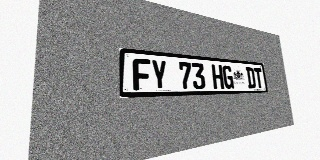3: (191, 63, 205, 89)
7: (178, 62, 193, 90)
D: (245, 67, 256, 88)
F: (132, 58, 151, 90)
G: (222, 65, 234, 89)
H: (211, 64, 224, 89)
T: (254, 68, 264, 88)
Y: (150, 59, 168, 90)
